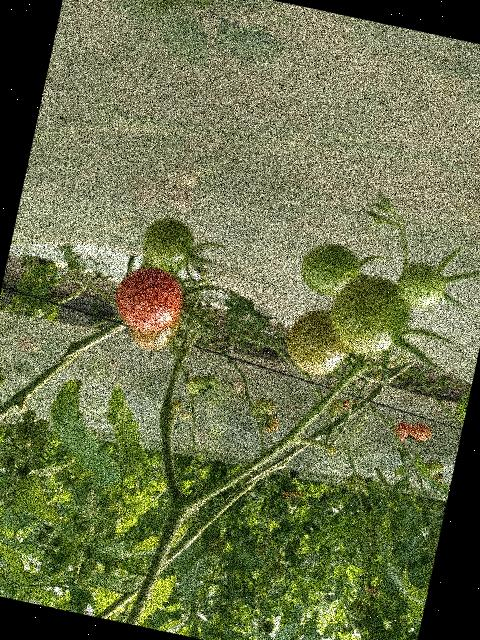l_fully_ripened: (109, 260, 188, 338)
l_green: (325, 268, 417, 363), (280, 303, 358, 381), (295, 238, 366, 301), (137, 214, 200, 277), (395, 259, 448, 310)
l_half_ripened: (124, 304, 182, 355)
